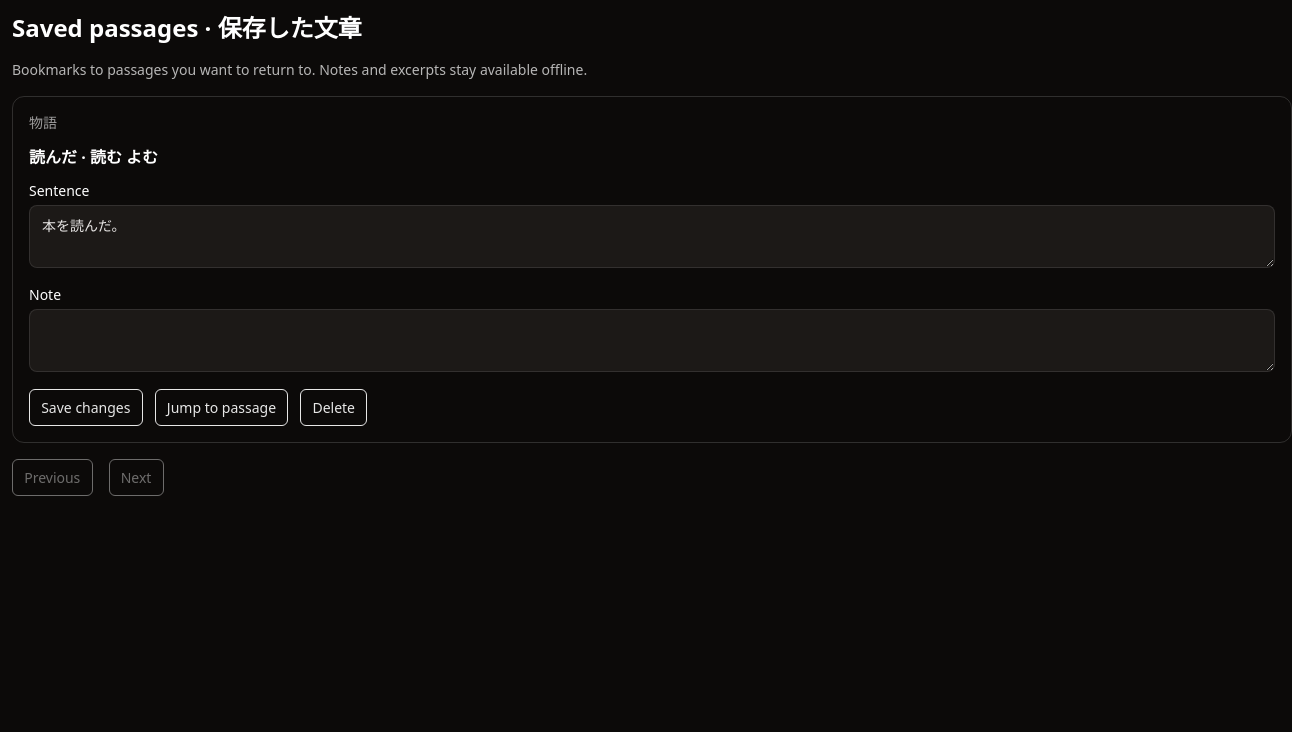
Scenario: shows changed-source errors without opening an unrelated location
Step 1. Click the button "Jump to passage" → (222, 407), box [155,389,288,426]
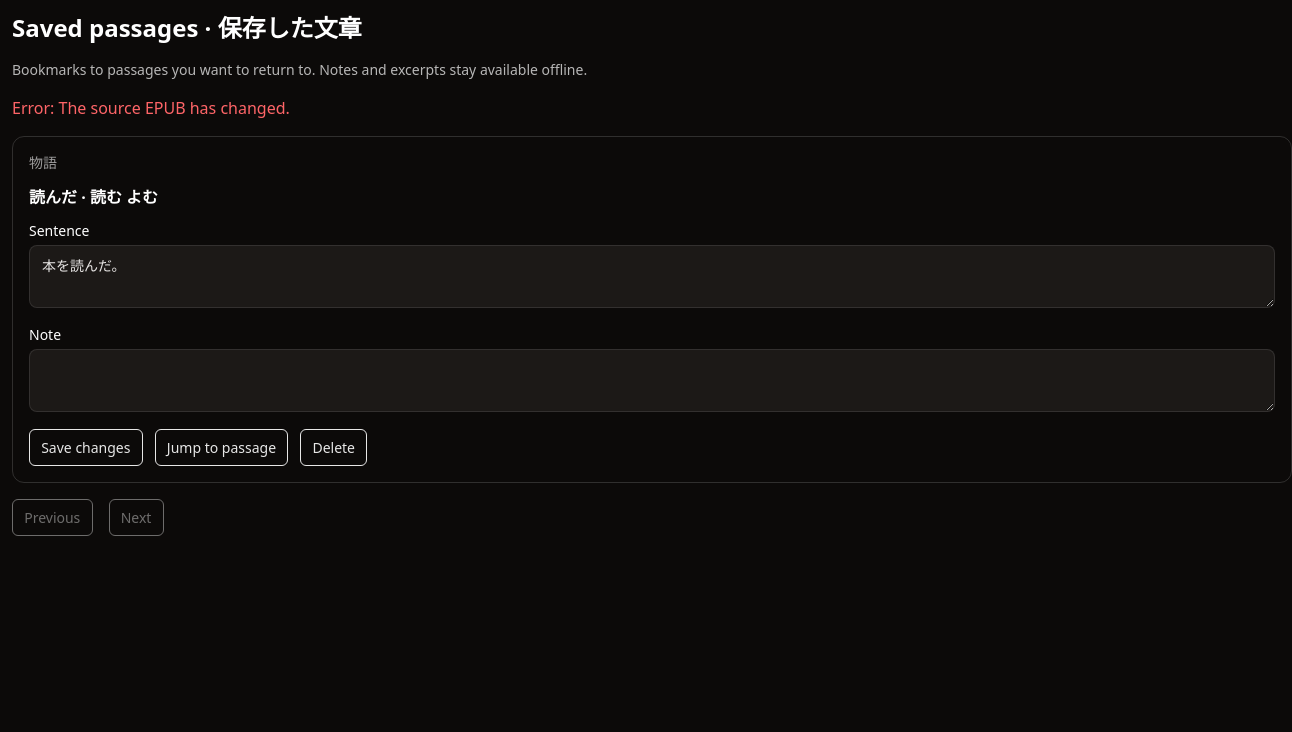
expect the message shows "source EPUB has changed": met, box [12,97,290,119]
